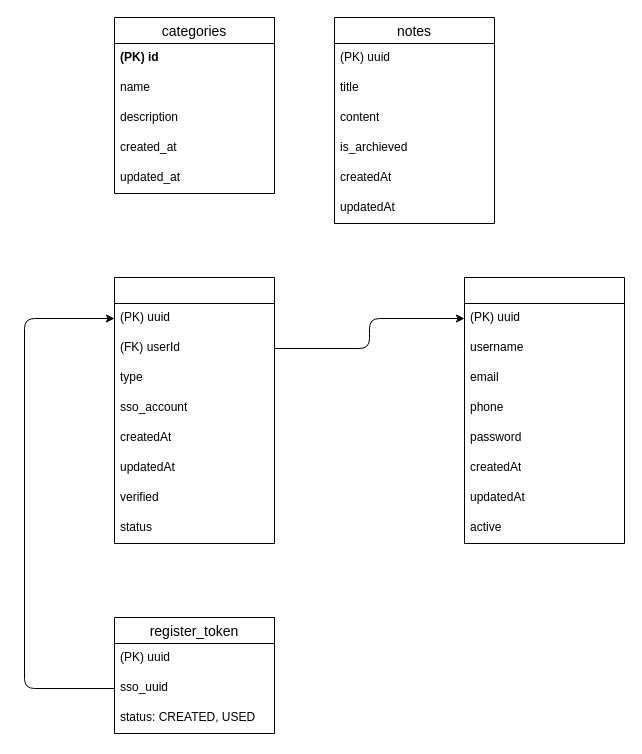
Some shapes in this 642 by 754 pixel diagram are drawn without their labels. Each missing label, with the box of its shape:
ssos: (114, 276, 274, 544)
users: (464, 276, 624, 544)
